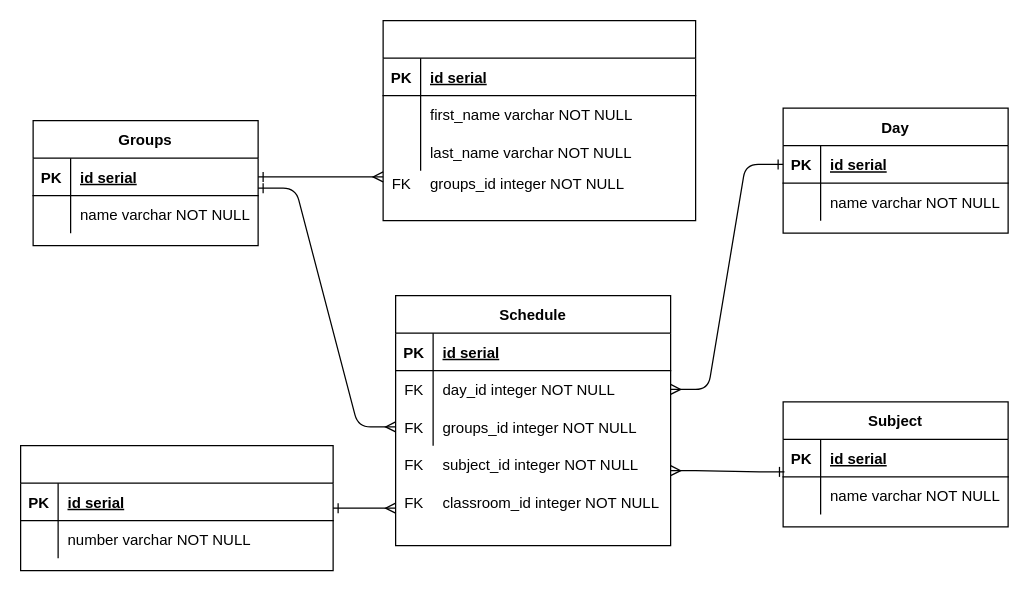
Some shapes in this 1029 by 591 pixel diagram are drawn without their labels. The box of each missing label's shape, as (x1, y1, x2, y2) in pixels:
Classroom: (19, 444, 333, 571)
Student: (382, 19, 696, 221)
